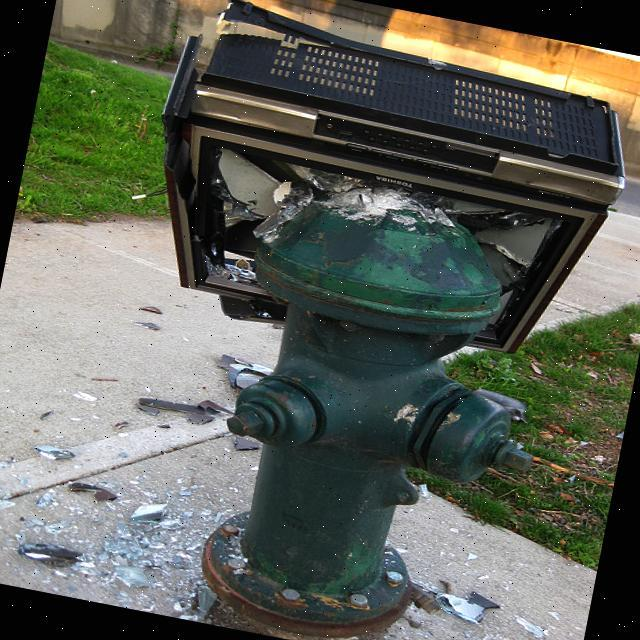fire_hydrant: (184, 159, 580, 640)
